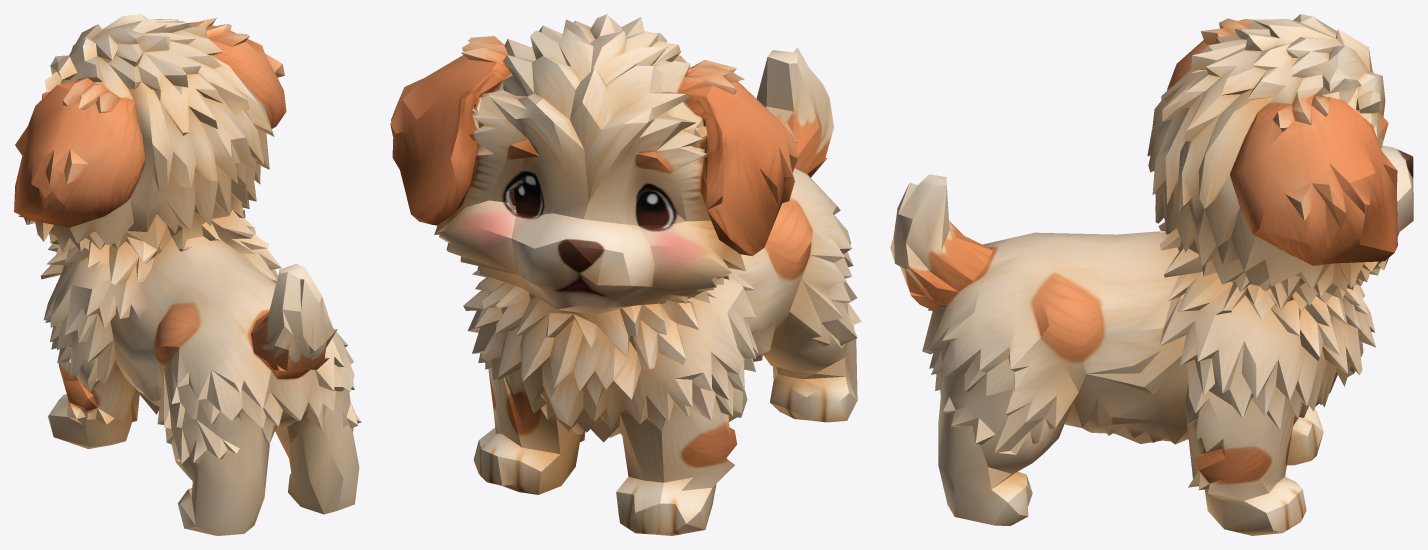
File: Dog.glb
3 renders of one model, left to right at view 1: azimuth 30°, elevation 25°; view 2: azimuth 150°, elevation 25°; view 3: azimuth 270°, elevation 25°, orthographic. The views are drawn at different scales.
Visible parts, largest first — view 1: geometry_0; view 2: geometry_0; view 3: geometry_0.
Boxes of the visible parts, bbox=[...] form: geometry_0: bbox=[14, 14, 361, 535]; geometry_0: bbox=[390, 14, 861, 535]; geometry_0: bbox=[890, 14, 1413, 535].
Size of the model in its own units: 0.2507 by 0.3275 by 0.3438.
1 material, 1 textured.
